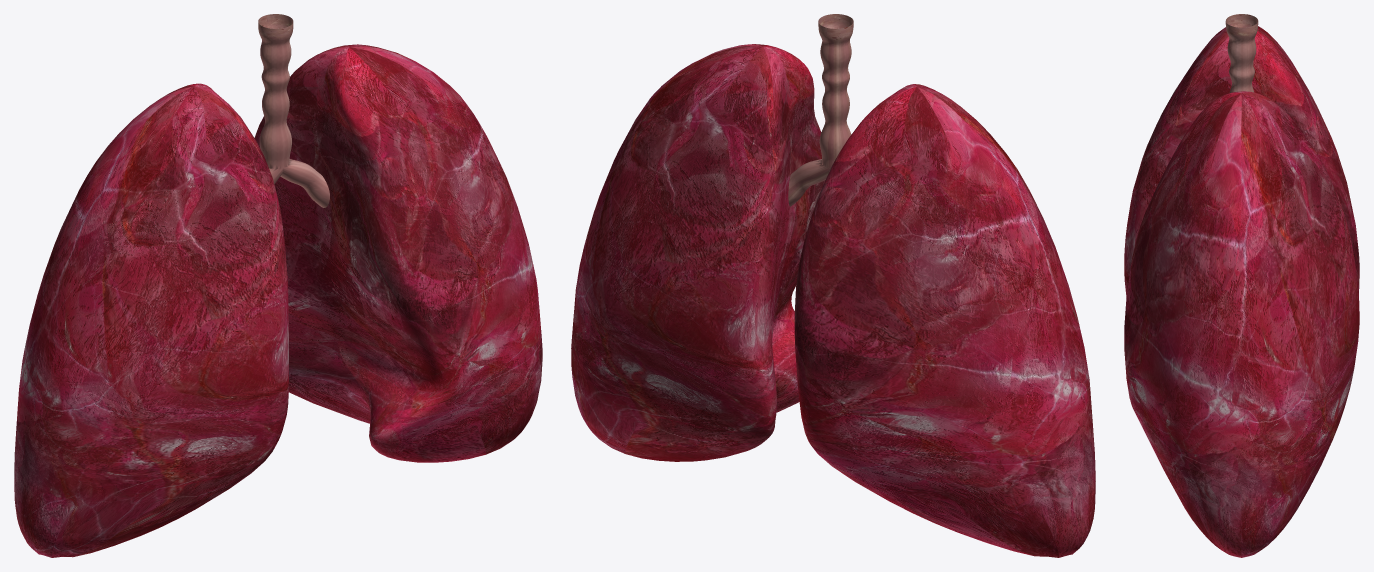
The model's file is lungs-healthy-inside.glb.
3 views of the same model, side by side, from view 1: azimuth 30°, elevation 25°; view 2: azimuth 150°, elevation 25°; view 3: azimuth 270°, elevation 25° (orthographic). The views are drawn at different scales.
Parts seen in each view (by area): view 1: inner; view 2: inner; view 3: inner.
Part boxes in pixels (box(x1,y1,x2,y2)): inner: box(14, 14, 542, 557); inner: box(571, 14, 1095, 557); inner: box(1124, 14, 1359, 557).
Bounding box in the file's own units: 0.2884 × 0.26 × 0.1254.
Materials: 2 (2 with a texture image).
